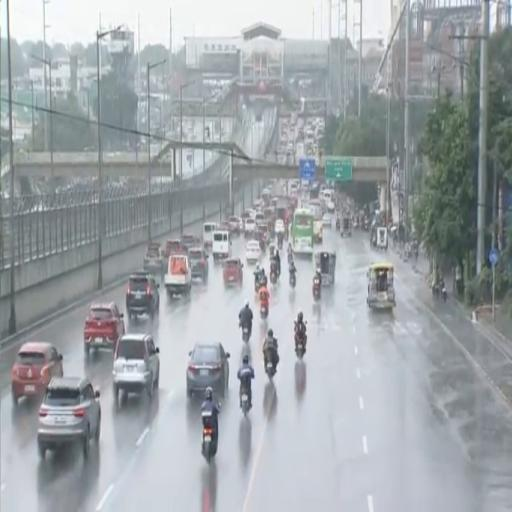bus: (291, 208, 314, 254), (308, 200, 323, 243)
car: (38, 377, 101, 459), (113, 333, 160, 403), (12, 342, 62, 405), (187, 343, 230, 397), (84, 302, 124, 355), (126, 272, 159, 318), (165, 254, 191, 297), (144, 243, 166, 276), (189, 247, 208, 282), (223, 259, 243, 285), (165, 239, 184, 258), (246, 240, 261, 263), (181, 234, 200, 250), (228, 216, 241, 234), (245, 217, 255, 237), (322, 213, 332, 227), (275, 219, 285, 233), (255, 212, 265, 225)
motorcycle: (202, 411, 216, 463), (295, 334, 306, 359), (240, 388, 250, 415), (265, 355, 275, 379), (313, 279, 320, 300), (270, 263, 277, 284), (241, 326, 250, 342), (260, 304, 268, 319), (289, 272, 296, 289), (432, 284, 439, 299), (278, 233, 283, 249), (442, 286, 447, 301), (255, 279, 260, 292), (288, 251, 293, 264), (336, 218, 340, 230)
